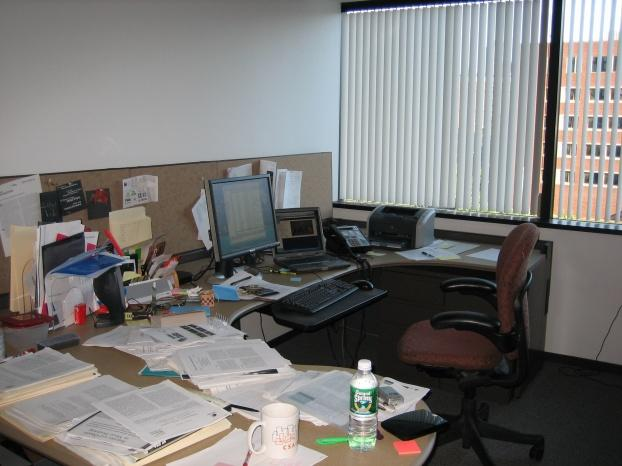AIO PC-Monitor-TV: (202, 171, 280, 262)
Kursi: (393, 220, 546, 465)
Printer: (365, 203, 435, 249)
